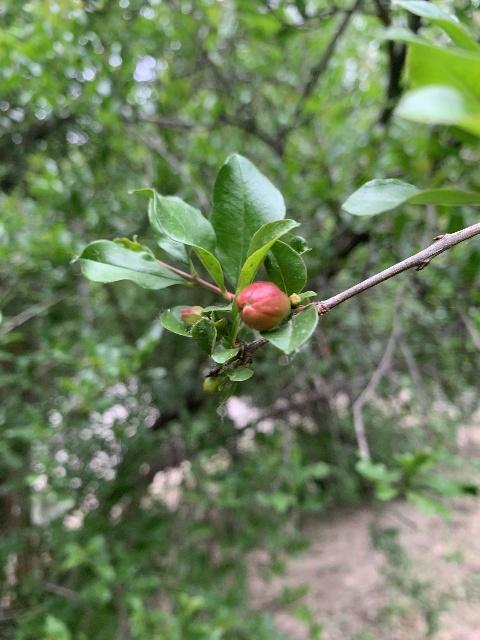bud: (236, 281, 290, 331)
